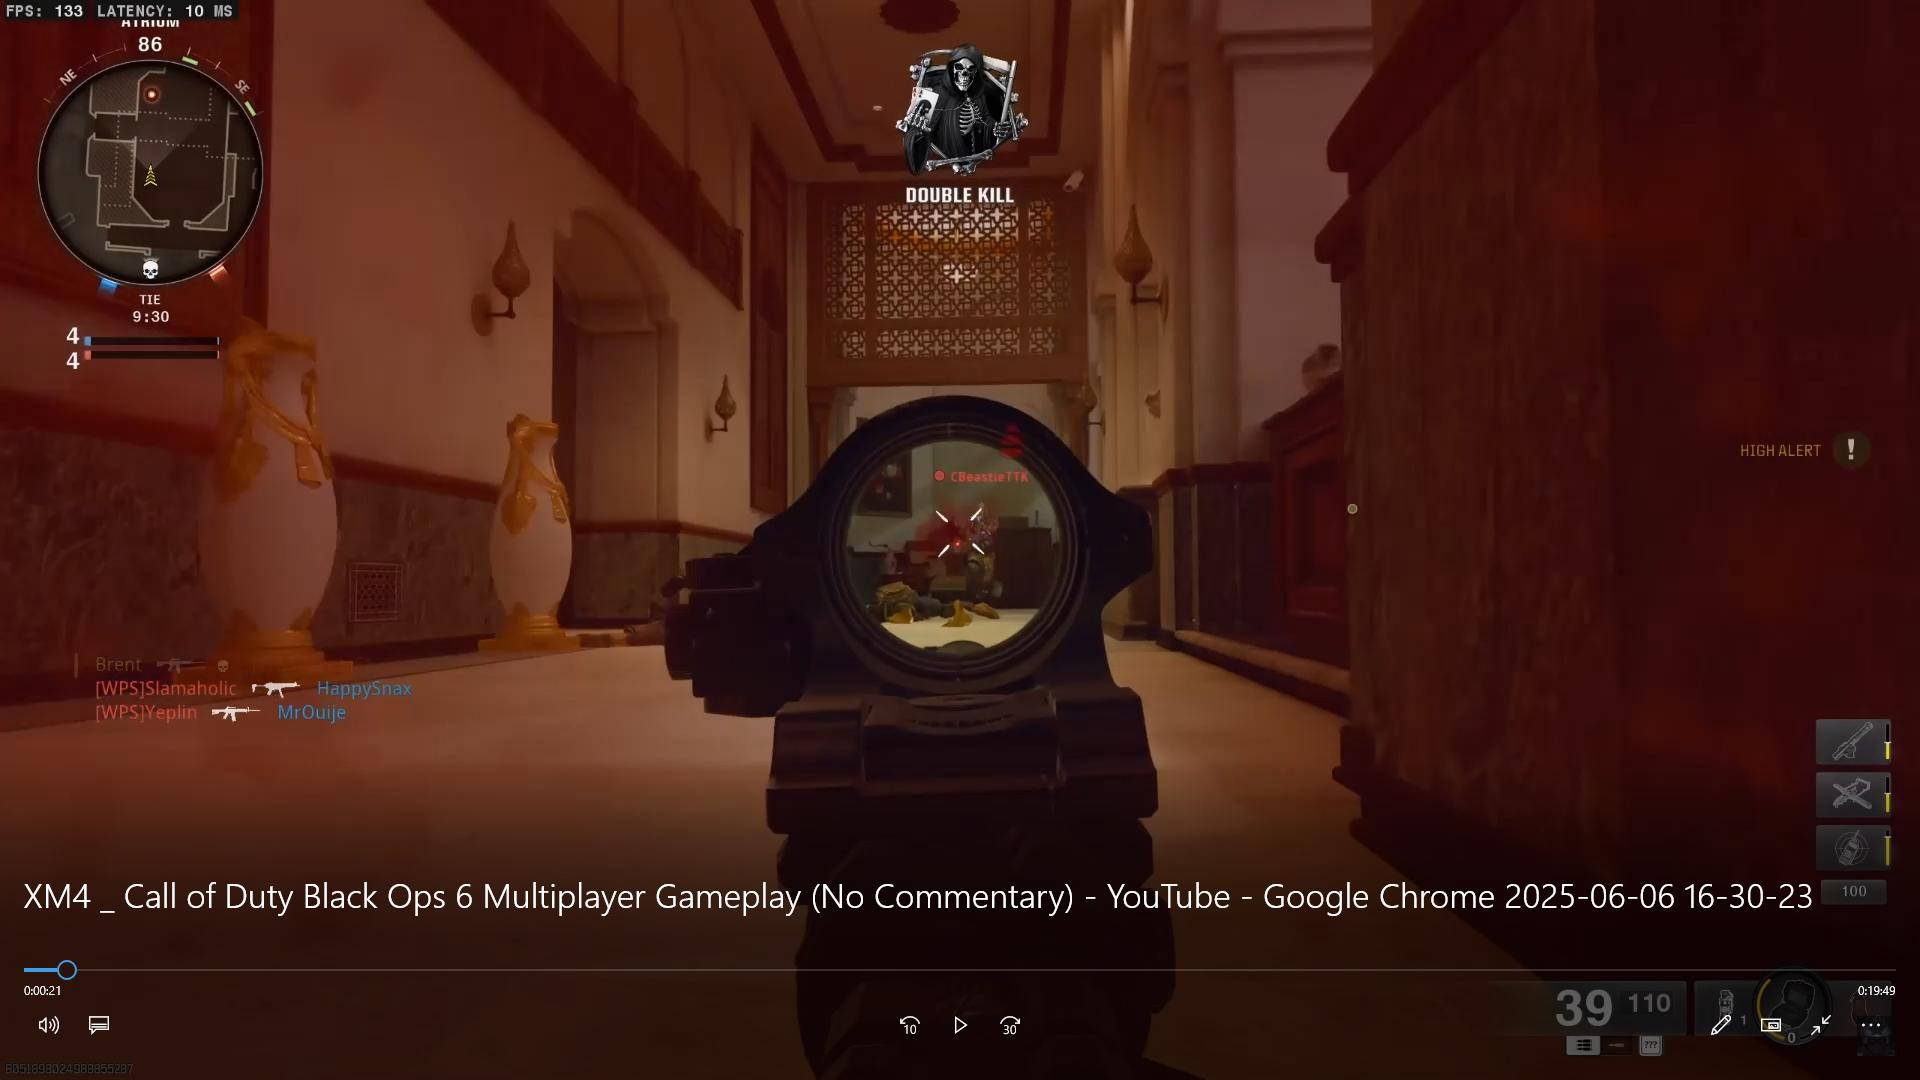Enemy: (927, 487, 1022, 601)
